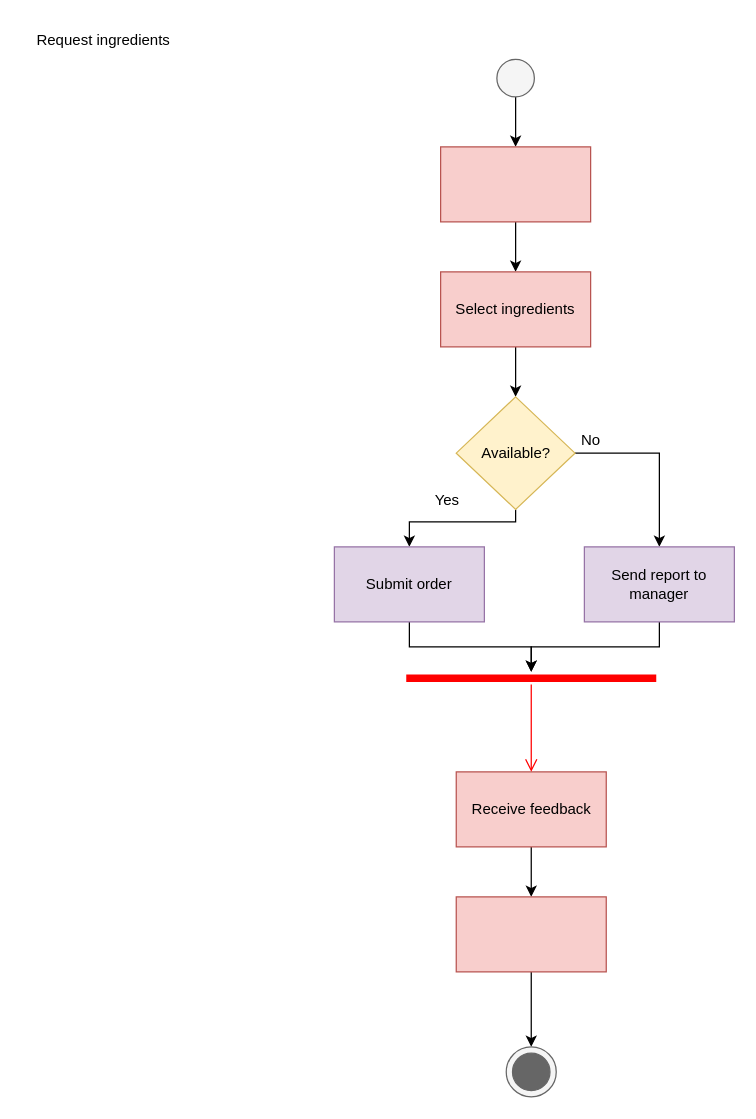
The diagram is 756 pixels wide and 1119 high, and some of its shapes have lost their labels. Here are the shapes that lost their labels. From the top down, the centre of each, then its label:
the point at 515,184: Login
the point at 530,934: Confirm order
